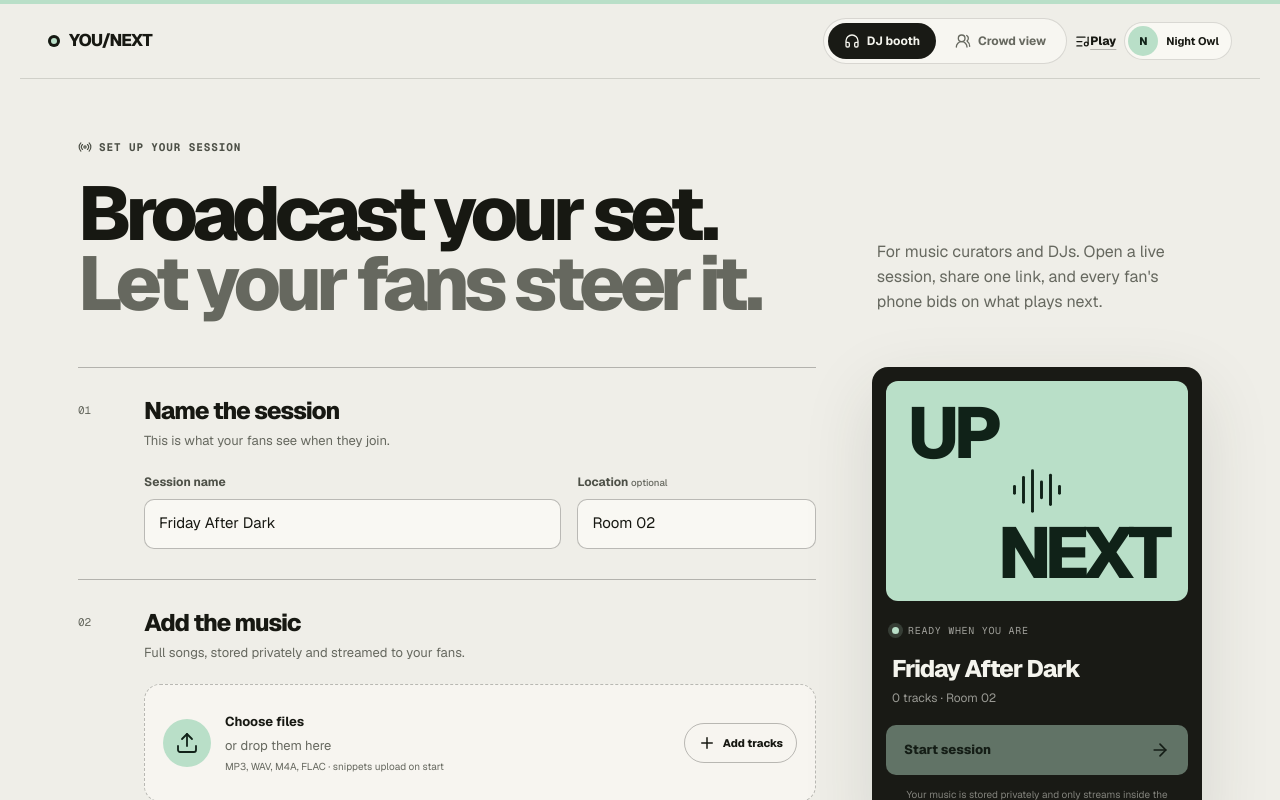
the profile sheet › says what went wrong and keeps the sheet open
This screenshot has width=1280, height=800.
Click the button with aria-label "Edit your profile": (1178, 41) [1124, 22, 1232, 60]
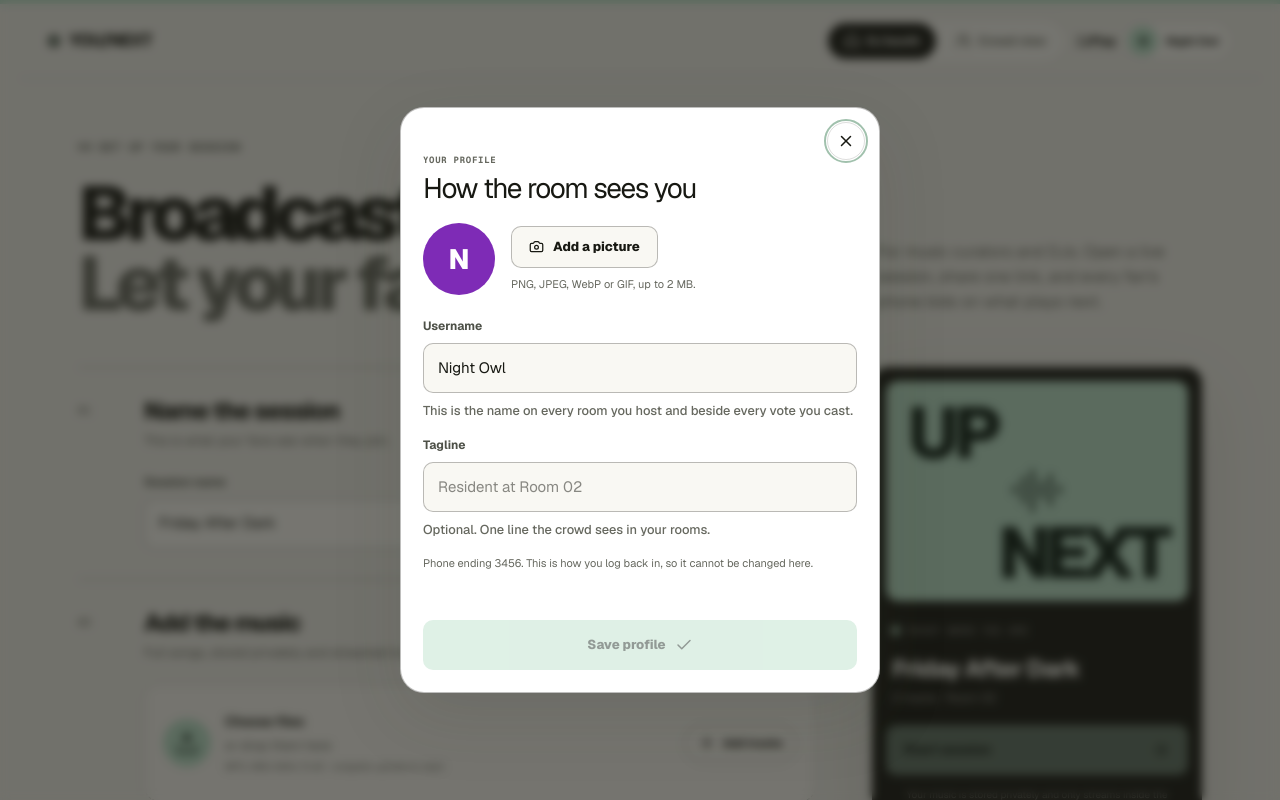
In the field labelled "Tagline Optional. One line the crowd sees in your rooms.": (640, 487) [423, 462, 857, 512], type "Vinyl only"
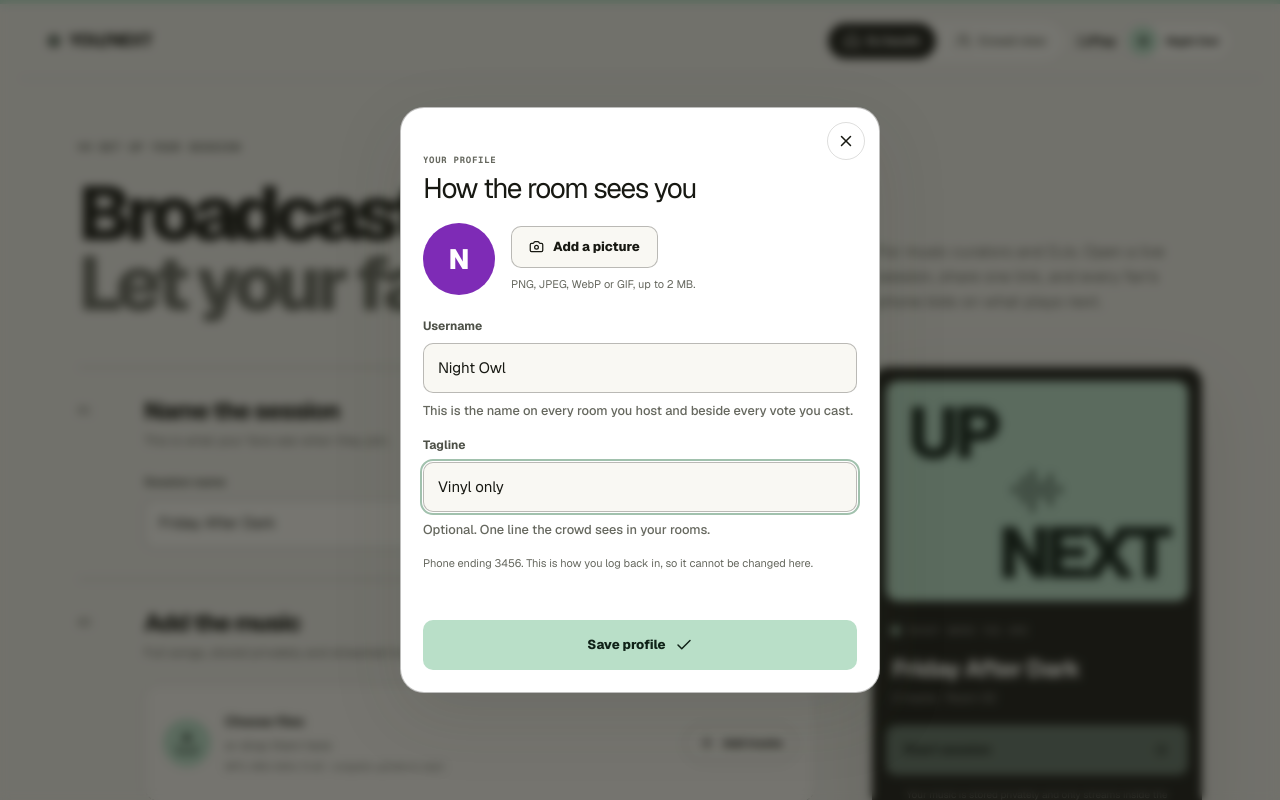
Click the button "Save profile": (640, 645) [423, 620, 857, 670]
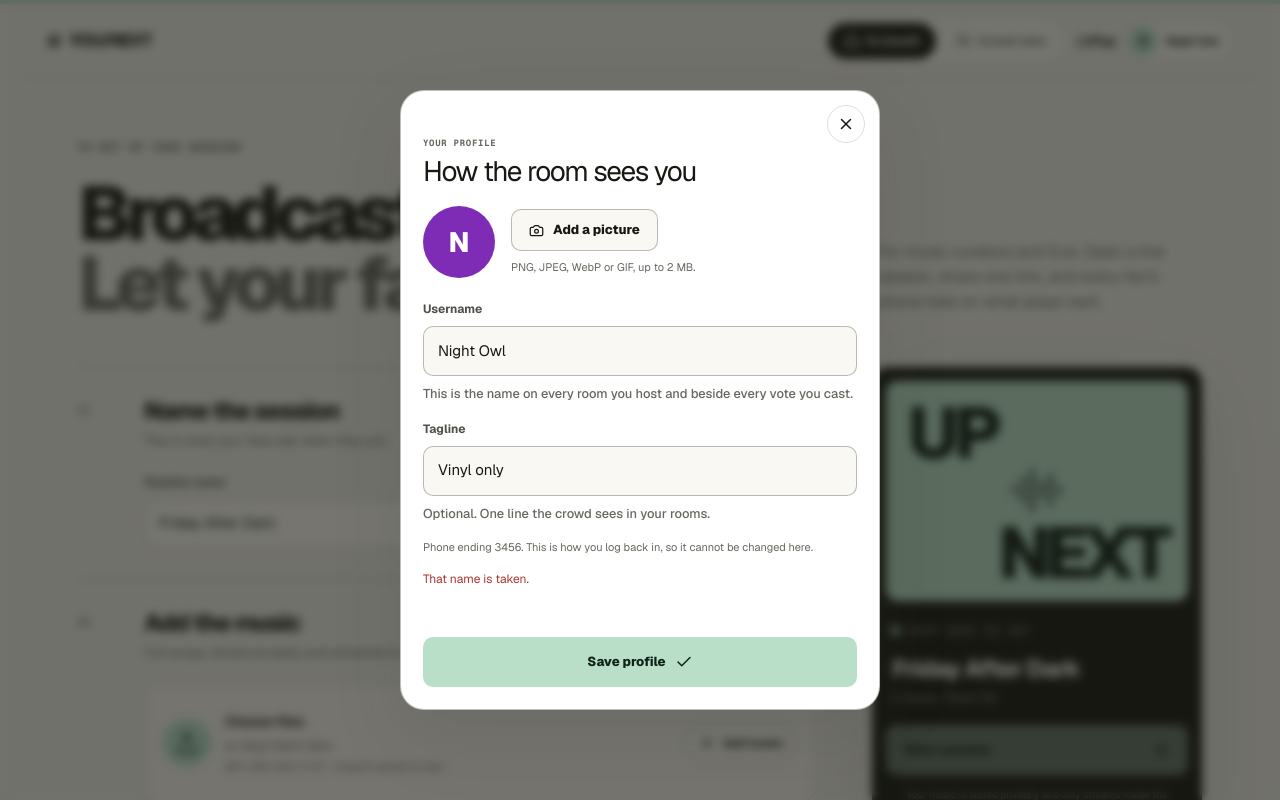
Now the dialog "How the room sees you" is shown, box [400, 90, 880, 710]
Now the message "That name is taken." is shown, box [423, 571, 529, 587]
